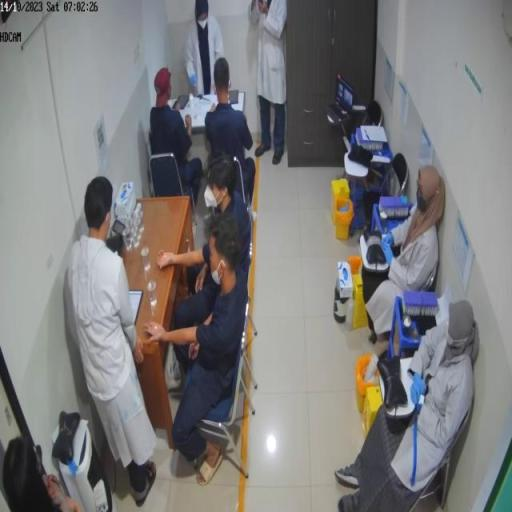person: (338, 303, 481, 508), (69, 177, 157, 507), (145, 214, 249, 486), (159, 154, 250, 382), (361, 167, 447, 345), (205, 59, 258, 225), (151, 69, 204, 228), (250, 1, 287, 168), (4, 437, 81, 507), (185, 2, 224, 99)
